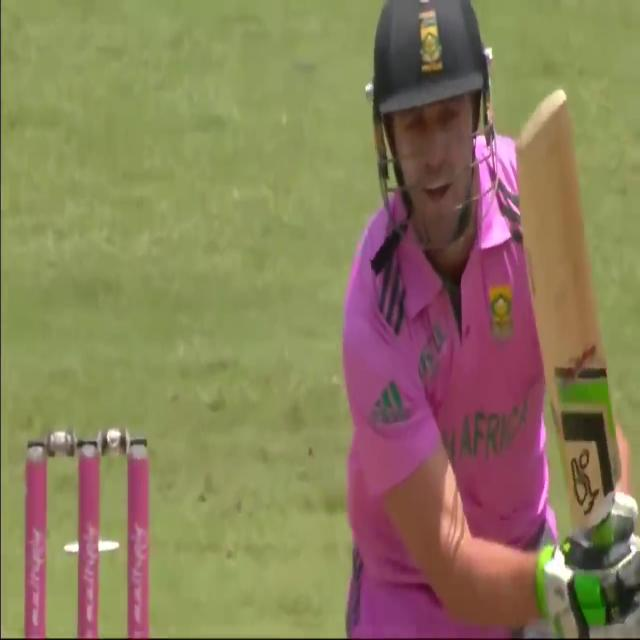Ball: (333, 0, 633, 636)
